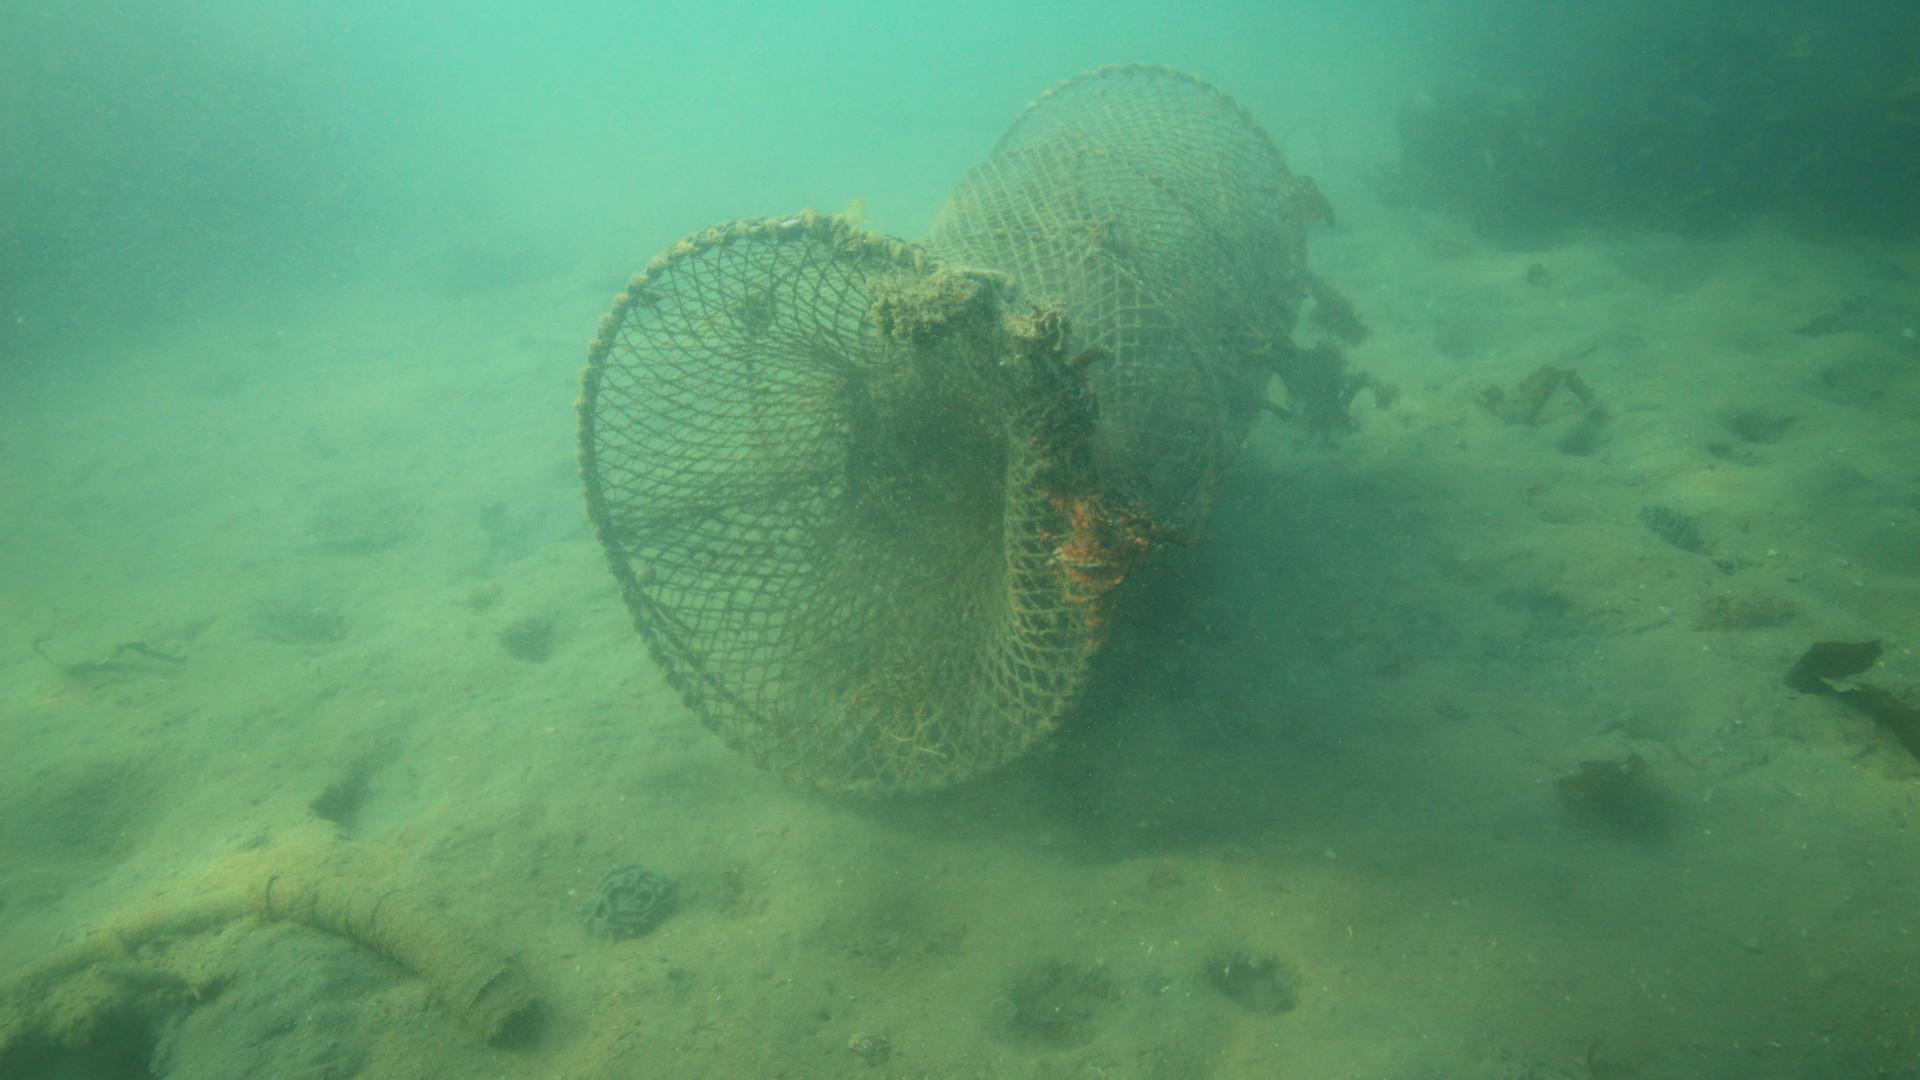spring fish trap: (574, 59, 1311, 808)
